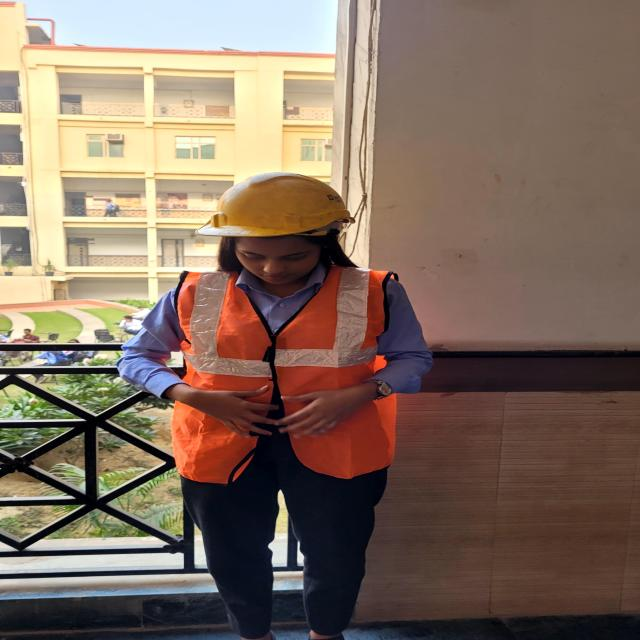safe: (120, 175, 467, 635)
